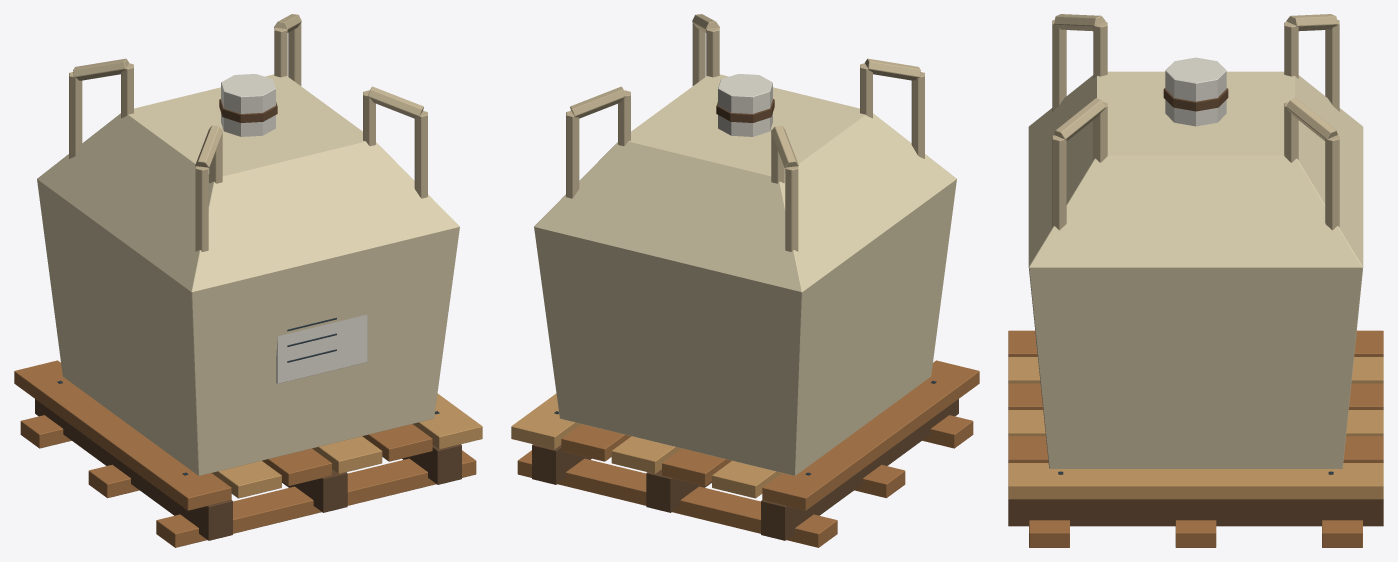
File: b14_bulk_fertilizer_sack_on_pallet.glb
3 renders of one model, left to right at view 1: azimuth 30°, elevation 25°; view 2: azimuth 150°, elevation 25°; view 3: azimuth 270°, elevation 25°, orthographic. The views are drawn at different scales.
Parts seen in each view (by area): view 1: b14_bulk_fertilizer_sack_on_pallet; view 2: b14_bulk_fertilizer_sack_on_pallet; view 3: b14_bulk_fertilizer_sack_on_pallet.
Boxes of the visible parts, x1,y1,x2,y2 form: b14_bulk_fertilizer_sack_on_pallet: (14,14,482,547); b14_bulk_fertilizer_sack_on_pallet: (511,14,979,547); b14_bulk_fertilizer_sack_on_pallet: (1008,14,1383,547).
Bounding box in the file's own units: 1.1 × 1.33 × 1.1.
